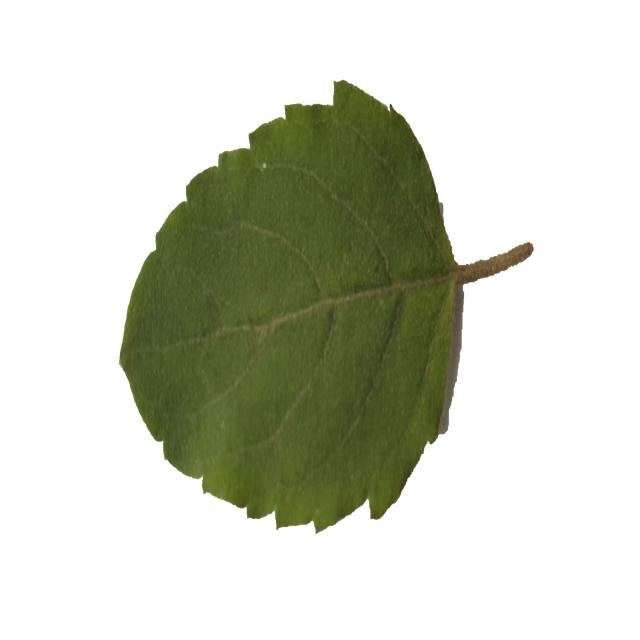tulsi: (120, 72, 529, 532)
